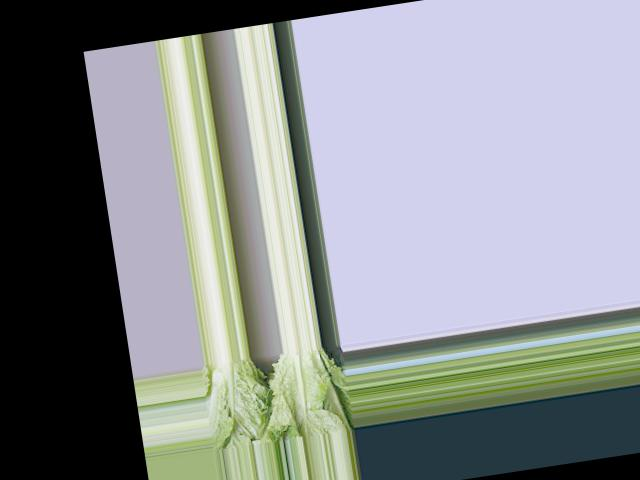lettuce: (204, 355, 272, 445)
